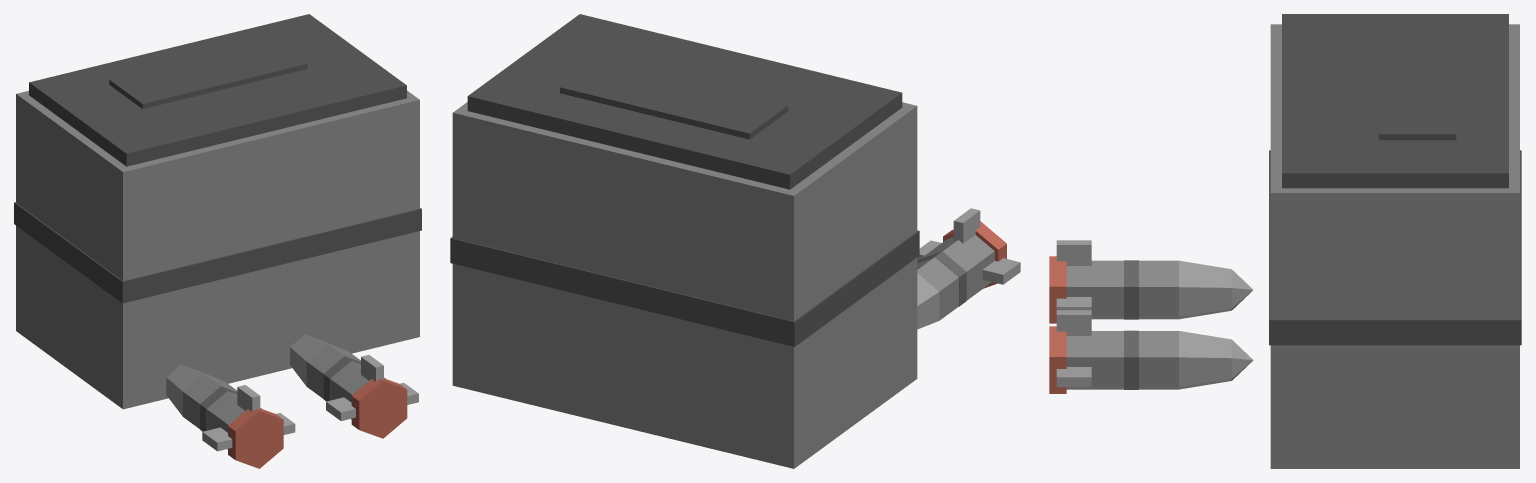
Rendered from ce_ammo2_minirocket_bb_c.obj.
3 renders of one model, left to right at view 1: azimuth 30°, elevation 25°; view 2: azimuth 150°, elevation 25°; view 3: azimuth 270°, elevation 25°, orthographic. The views are drawn at different scales.
Parts seen in each view (by area): view 1: ce_ammo2_minirocket_bb_c_0, ce_ammo2_minirocket_bb_c_1, ce_ammo2_minirocket_bb_c_2, ce_ammo2_minirocket_bb_c_3, ce_ammo2_minirocket_bb_c_12, ce_ammo2_minirocket_bb_c_4, ce_ammo2_minirocket_bb_c_15, ce_ammo2_minirocket_bb_c_7, ce_ammo2_minirocket_bb_c_5, ce_ammo2_minirocket_bb_c_13, ce_ammo2_minirocket_bb_c_16, ce_ammo2_minirocket_bb_c_8 (+6 smaller); view 2: ce_ammo2_minirocket_bb_c_0, ce_ammo2_minirocket_bb_c_1, ce_ammo2_minirocket_bb_c_2, ce_ammo2_minirocket_bb_c_3, ce_ammo2_minirocket_bb_c_5, ce_ammo2_minirocket_bb_c_7, ce_ammo2_minirocket_bb_c_8, ce_ammo2_minirocket_bb_c_10, ce_ammo2_minirocket_bb_c_11, ce_ammo2_minirocket_bb_c_4, ce_ammo2_minirocket_bb_c_6; view 3: ce_ammo2_minirocket_bb_c_0, ce_ammo2_minirocket_bb_c_1, ce_ammo2_minirocket_bb_c_3, ce_ammo2_minirocket_bb_c_2, ce_ammo2_minirocket_bb_c_13, ce_ammo2_minirocket_bb_c_5, ce_ammo2_minirocket_bb_c_16, ce_ammo2_minirocket_bb_c_8, ce_ammo2_minirocket_bb_c_7, ce_ammo2_minirocket_bb_c_15, ce_ammo2_minirocket_bb_c_12, ce_ammo2_minirocket_bb_c_4 (+8 smaller).
Part boxes in pixels (x1=…): ce_ammo2_minirocket_bb_c_0: x1=16, y1=90, x2=419, y2=409; ce_ammo2_minirocket_bb_c_1: x1=29, y1=14, x2=406, y2=166; ce_ammo2_minirocket_bb_c_2: x1=14, y1=202, x2=421, y2=303; ce_ammo2_minirocket_bb_c_3: x1=109, y1=39, x2=307, y2=108; ce_ammo2_minirocket_bb_c_12: x1=351, y1=378, x2=407, y2=438; ce_ammo2_minirocket_bb_c_4: x1=228, y1=408, x2=283, y2=468; ce_ammo2_minirocket_bb_c_15: x1=306, y1=344, x2=360, y2=398; ce_ammo2_minirocket_bb_c_7: x1=183, y1=374, x2=237, y2=428; ce_ammo2_minirocket_bb_c_5: x1=206, y1=391, x2=261, y2=449; ce_ammo2_minirocket_bb_c_13: x1=330, y1=361, x2=385, y2=419; ce_ammo2_minirocket_bb_c_16: x1=290, y1=334, x2=343, y2=386; ce_ammo2_minirocket_bb_c_8: x1=166, y1=365, x2=218, y2=416; ce_ammo2_minirocket_bb_c_0: x1=452, y1=102, x2=917, y2=468; ce_ammo2_minirocket_bb_c_1: x1=467, y1=14, x2=902, y2=189; ce_ammo2_minirocket_bb_c_2: x1=450, y1=230, x2=919, y2=346; ce_ammo2_minirocket_bb_c_3: x1=560, y1=59, x2=787, y2=139; ce_ammo2_minirocket_bb_c_5: x1=920, y1=235, x2=994, y2=300; ce_ammo2_minirocket_bb_c_7: x1=917, y1=257, x2=958, y2=320; ce_ammo2_minirocket_bb_c_8: x1=917, y1=273, x2=939, y2=329; ce_ammo2_minirocket_bb_c_10: x1=917, y1=240, x2=1020, y2=284; ce_ammo2_minirocket_bb_c_11: x1=953, y1=208, x2=980, y2=243; ce_ammo2_minirocket_bb_c_4: x1=943, y1=221, x2=1006, y2=288; ce_ammo2_minirocket_bb_c_6: x1=917, y1=251, x2=966, y2=306; ce_ammo2_minirocket_bb_c_0: x1=1270, y1=24, x2=1519, y2=468; ce_ammo2_minirocket_bb_c_1: x1=1282, y1=14, x2=1508, y2=188; ce_ammo2_minirocket_bb_c_3: x1=1378, y1=40, x2=1456, y2=140; ce_ammo2_minirocket_bb_c_2: x1=1269, y1=150, x2=1521, y2=345; ce_ammo2_minirocket_bb_c_13: x1=1066, y1=331, x2=1123, y2=389; ce_ammo2_minirocket_bb_c_5: x1=1066, y1=260, x2=1123, y2=319; ce_ammo2_minirocket_bb_c_16: x1=1179, y1=331, x2=1231, y2=389; ce_ammo2_minirocket_bb_c_8: x1=1179, y1=260, x2=1231, y2=319; ce_ammo2_minirocket_bb_c_7: x1=1139, y1=260, x2=1178, y2=319; ce_ammo2_minirocket_bb_c_15: x1=1139, y1=331, x2=1178, y2=389; ce_ammo2_minirocket_bb_c_12: x1=1049, y1=326, x2=1066, y2=393; ce_ammo2_minirocket_bb_c_4: x1=1049, y1=256, x2=1066, y2=323.
Size of the model in its own units: 0.726 by 0.592 by 0.853.
